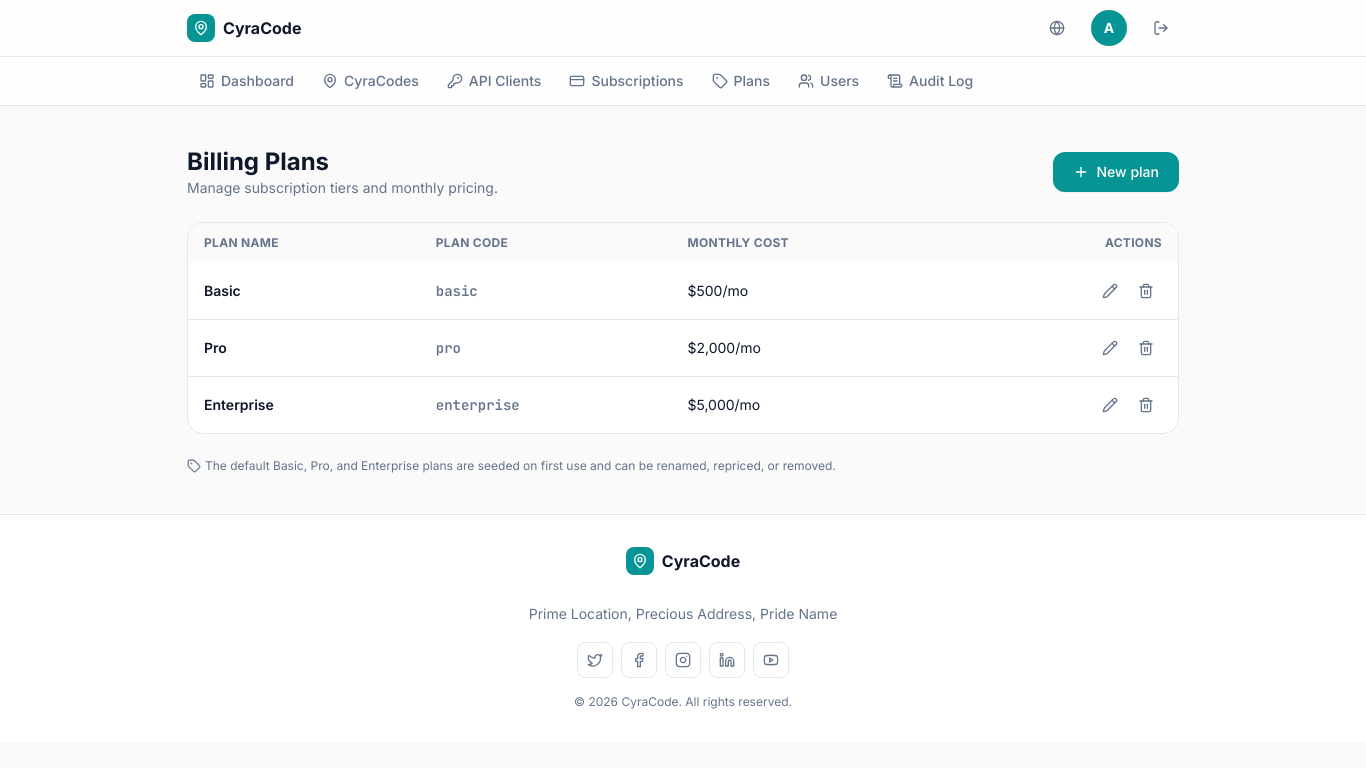
it: AdminPlans › rejects an invalid plan code
This screenshot has width=1366, height=768.
Expected: the text "Basic" is shown, [188,263,420,320]
Click the button "New plan". click: (1116, 172)
box: [1052,152,1179,192]
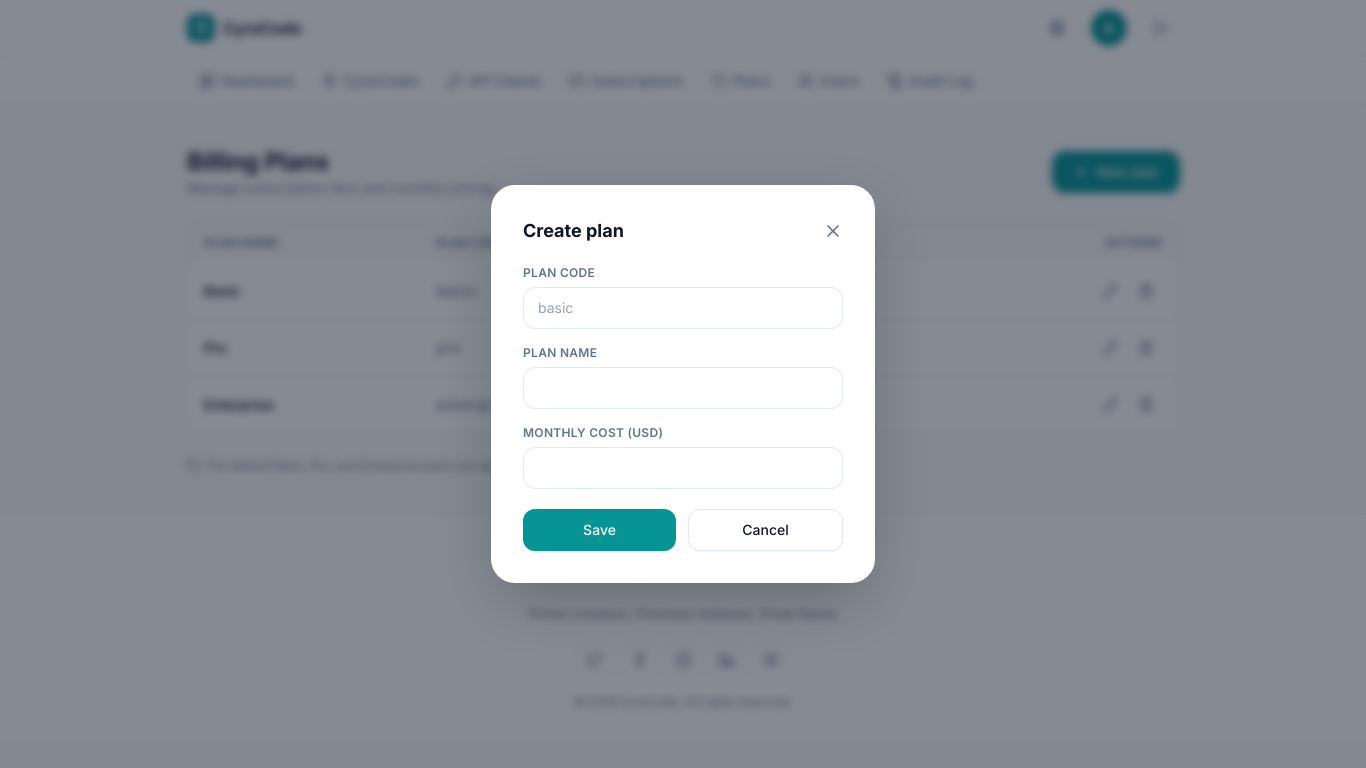
Type "has space" into the field labelled "Plan code". click: (683, 308)
box: [523,287,843,329]
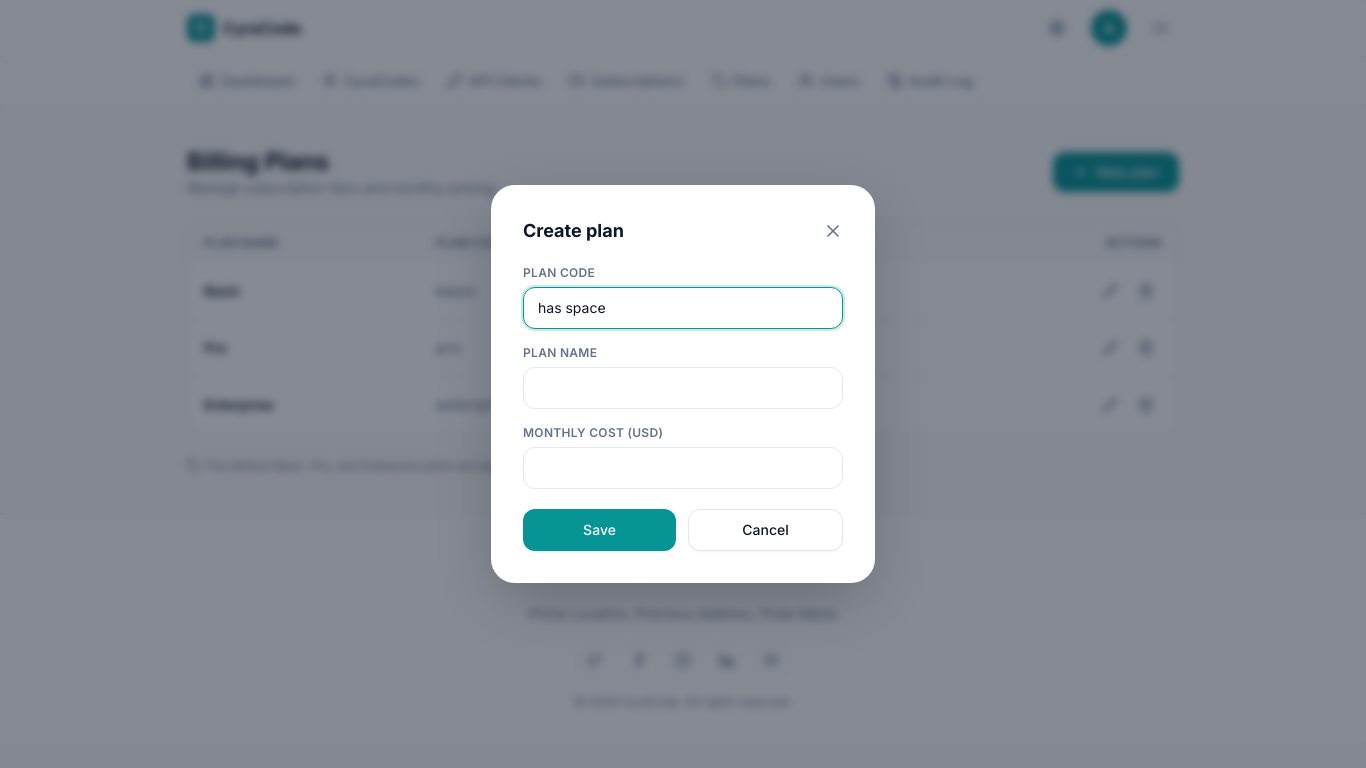
Type "Bad Code" into the field labelled "Plan name". click: (683, 388)
box: [523,367,843,409]
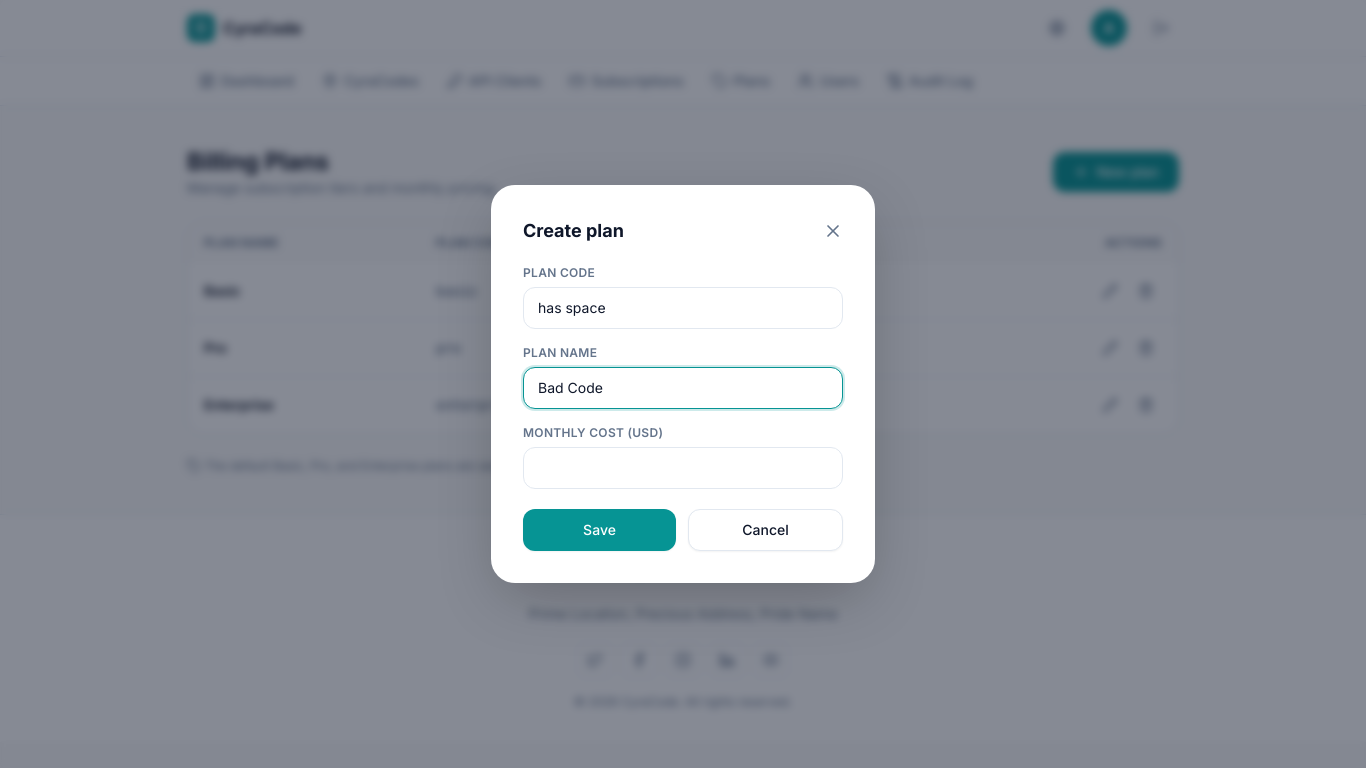
Type "100" into the number field labelled "Monthly cost (USD)". click: (683, 468)
box: [523,447,843,489]
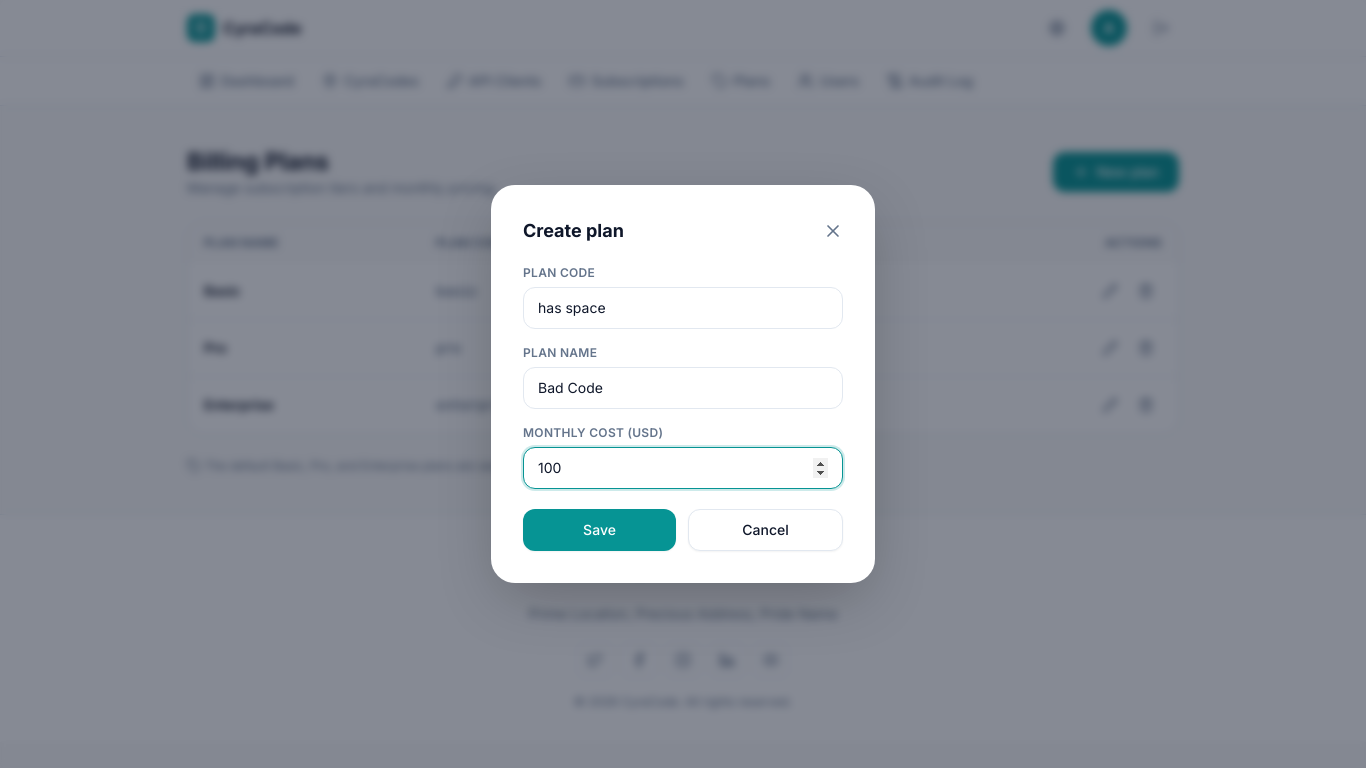
Click the button "Save". click: (600, 530)
box: [523,509,676,551]
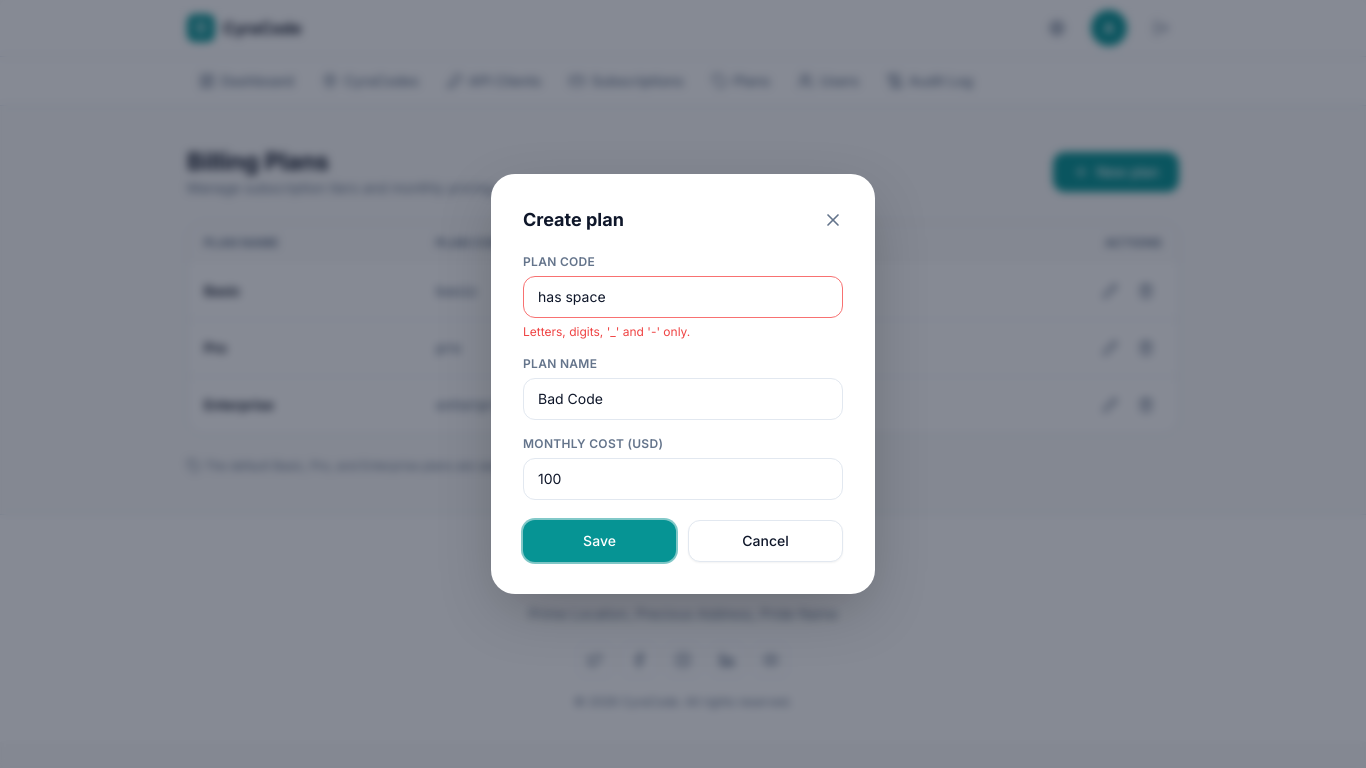
Expected: the text "Letters, digits, '_' and '-' only." is shown, [523,324,690,339]
